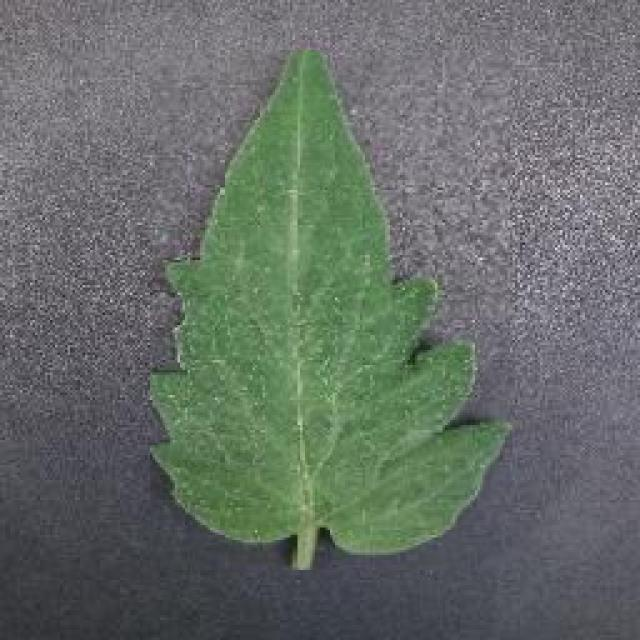Healthy: (150, 50, 512, 570)
